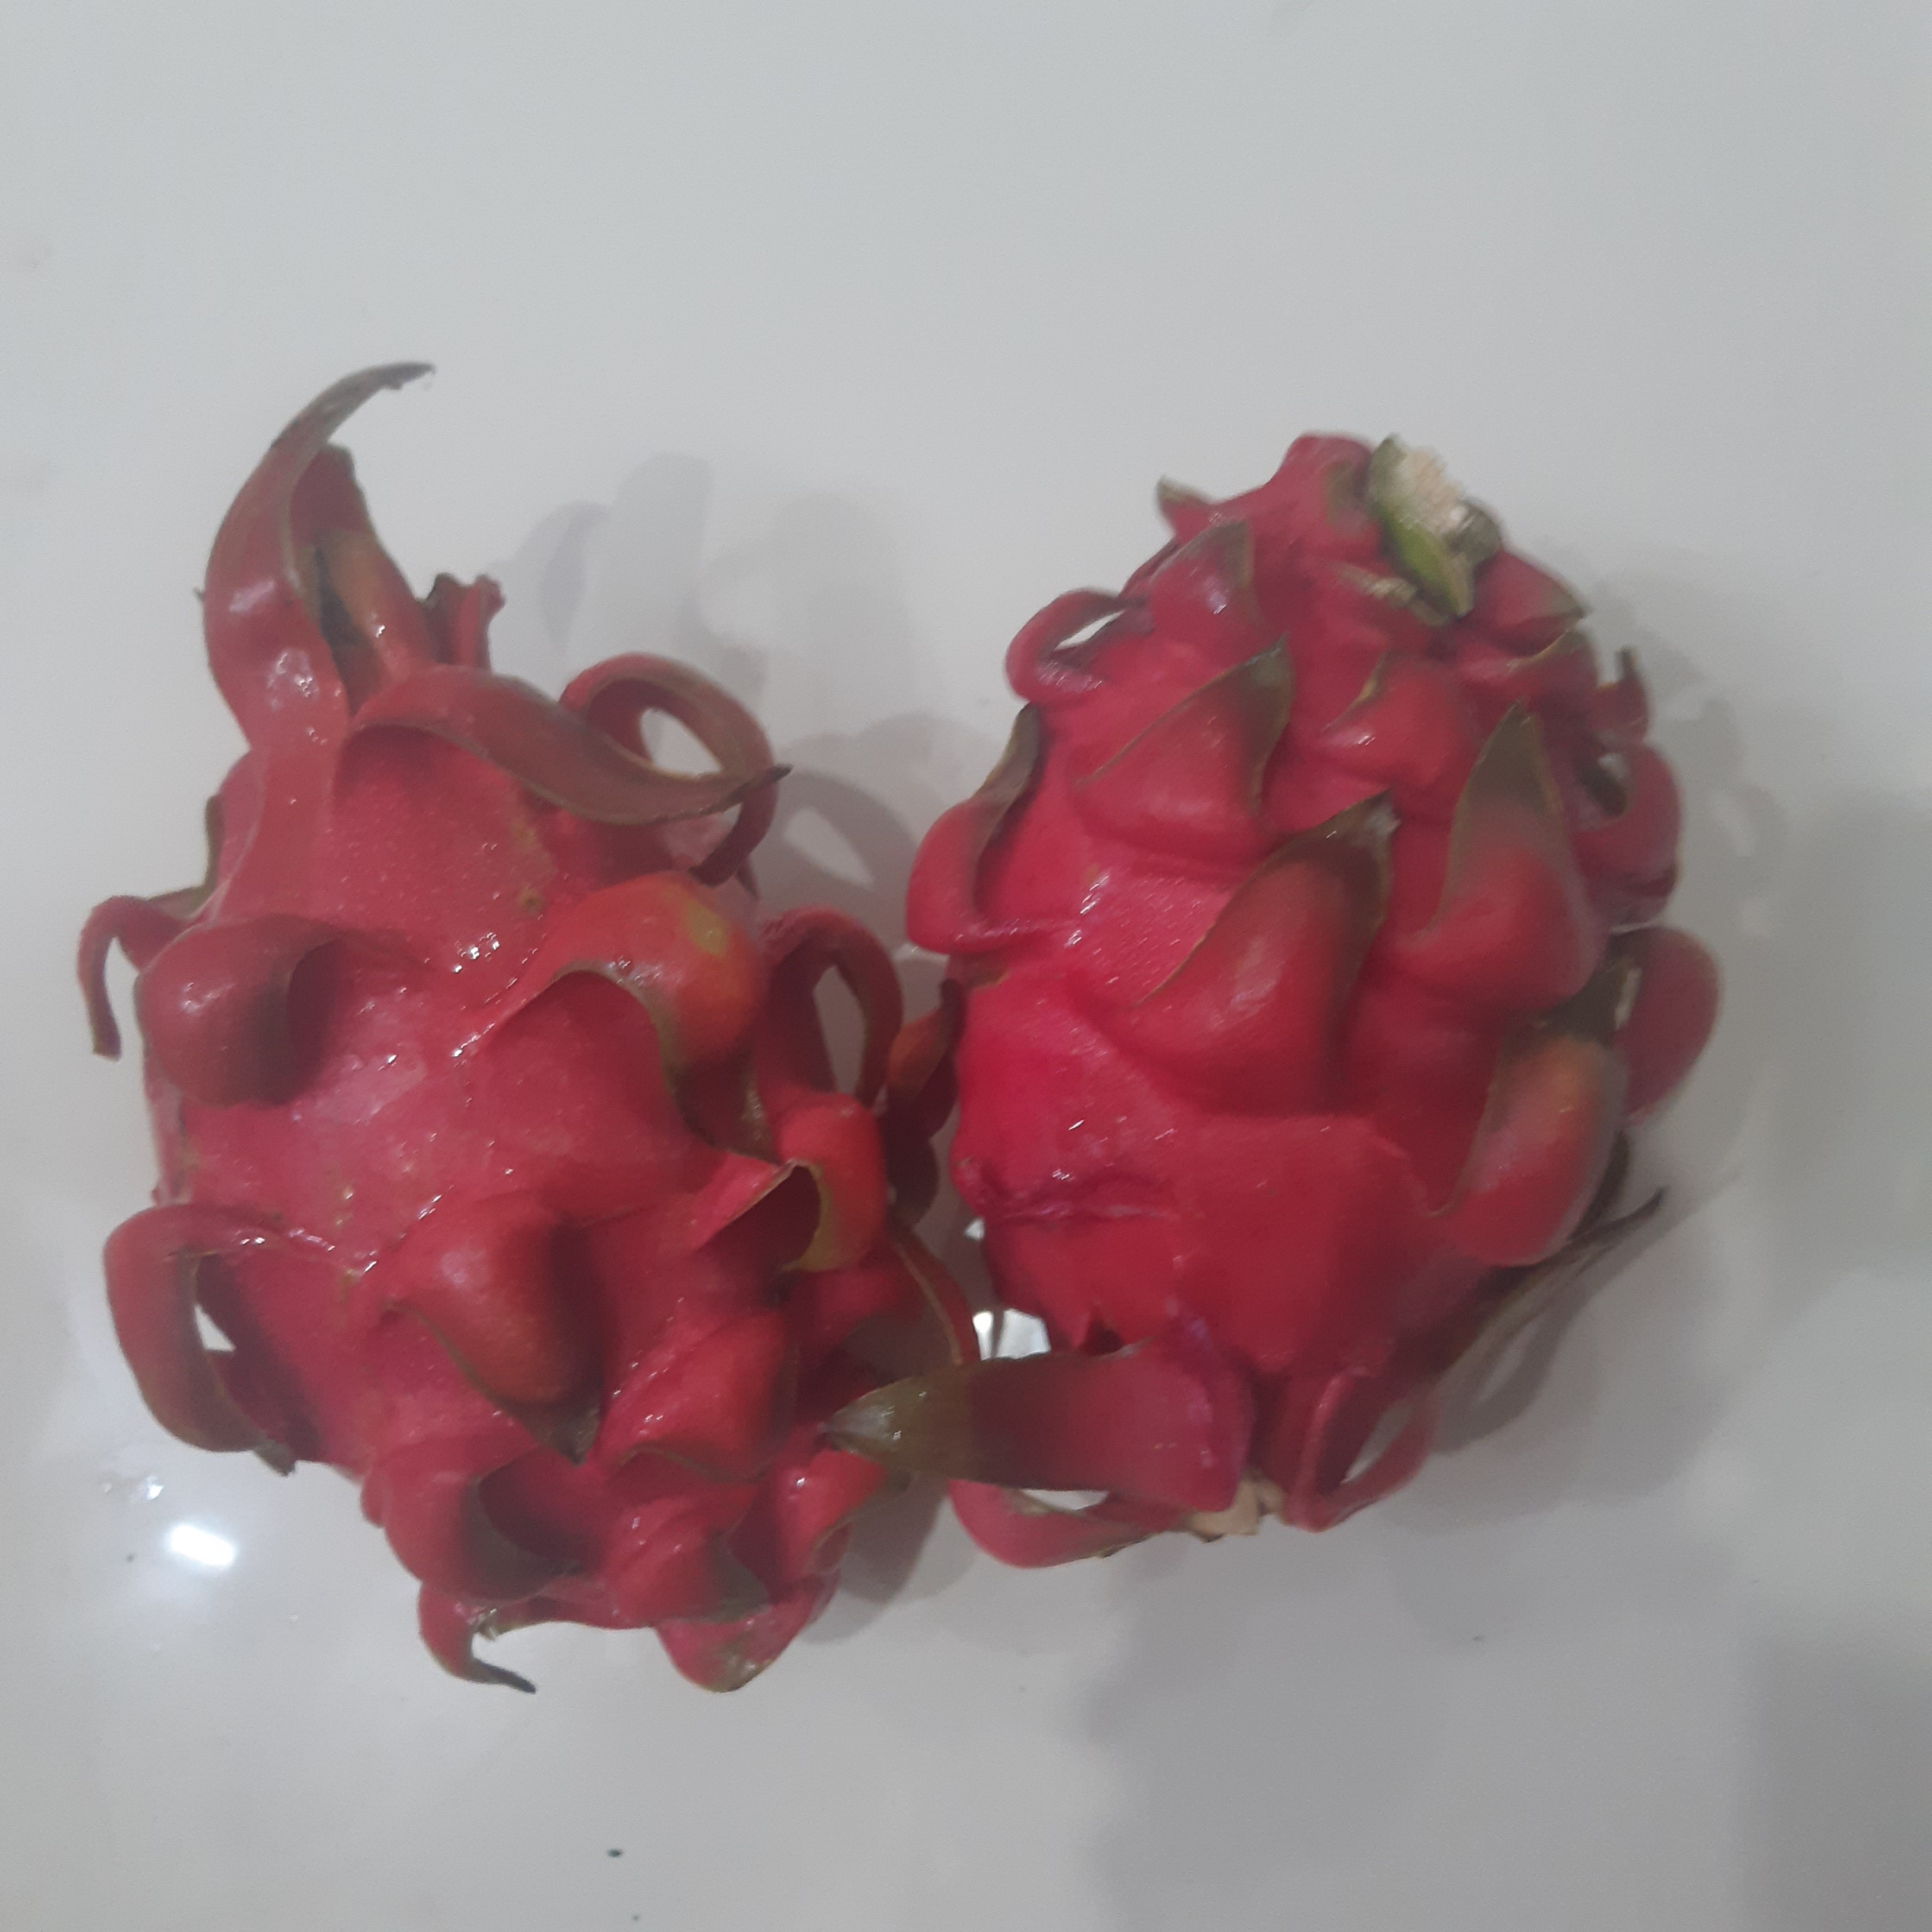Thanh long: (127, 586, 961, 1674), (936, 451, 1661, 1548)
